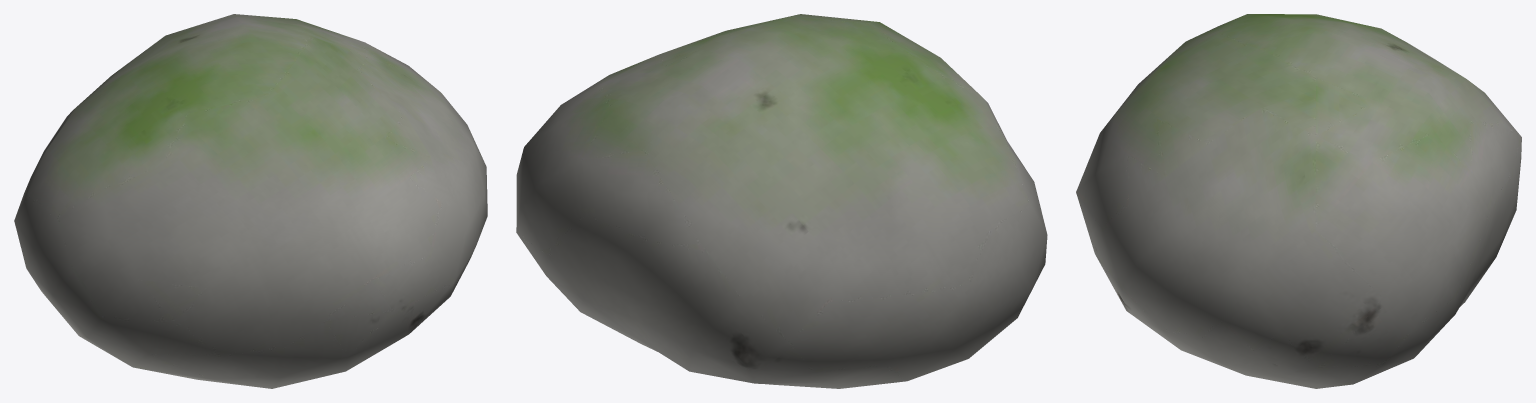
Rendered from rock_small.glb.
3 renders of one model, left to right at view 1: azimuth 30°, elevation 25°; view 2: azimuth 150°, elevation 25°; view 3: azimuth 270°, elevation 25°, orthographic. The views are drawn at different scales.
Parts seen in each view (by area): view 1: rock_small; view 2: rock_small; view 3: rock_small.
Part boxes in pixels (x1,y1,x2,y2): rock_small: (14, 14, 487, 388); rock_small: (516, 14, 1047, 388); rock_small: (1076, 14, 1521, 388).
Bounding box in the file's own units: 1.14 × 0.8096 × 1.01.
1 material, 1 textured.
